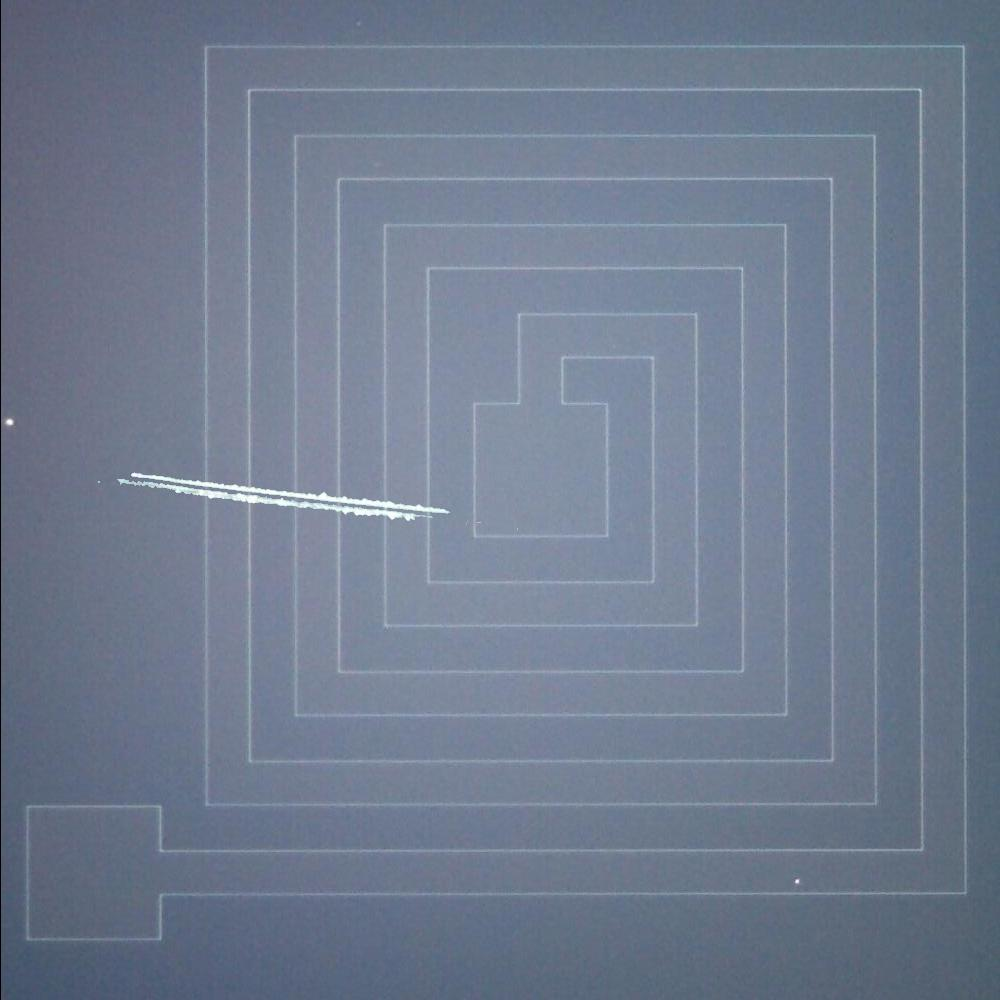dot: (782, 869, 812, 892), (1, 406, 22, 430)
scratch: (111, 461, 452, 531)
